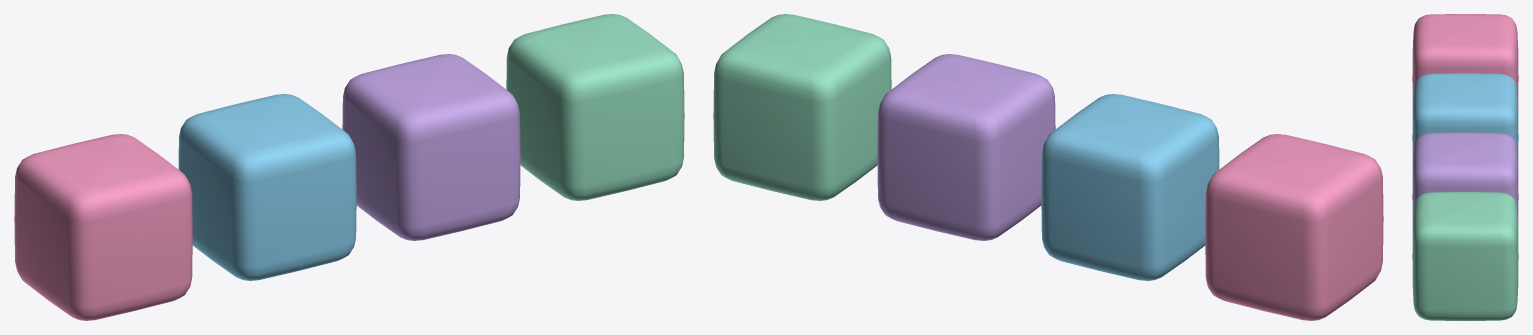
The model's file is puzzle_cubes.glb.
3 views of the same model, side by side, from view 1: azimuth 30°, elevation 25°; view 2: azimuth 150°, elevation 25°; view 3: azimuth 270°, elevation 25° (orthographic). The views are drawn at different scales.
Visible parts, largest first — view 1: Cube_Pink, Cube_Blue, Cube_Mint, Cube_Lavender; view 2: Cube_Pink, Cube_Blue, Cube_Mint, Cube_Lavender; view 3: Cube_Mint, Cube_Pink, Cube_Lavender, Cube_Blue.
Boxes of the visible parts, <box> form: Cube_Pink: <box>14,134,192,320</box>; Cube_Blue: <box>178,94,356,280</box>; Cube_Mint: <box>506,14,684,200</box>; Cube_Lavender: <box>342,54,520,240</box>; Cube_Pink: <box>1205,134,1383,320</box>; Cube_Blue: <box>1041,94,1219,280</box>; Cube_Mint: <box>713,14,891,200</box>; Cube_Lavender: <box>877,54,1055,240</box>; Cube_Mint: <box>1412,192,1518,320</box>; Cube_Pink: <box>1412,14,1518,106</box>; Cube_Lavender: <box>1412,132,1518,224</box>; Cube_Blue: <box>1412,73,1518,165</box>.
Bounding box in the file's own units: 3.38 × 0.68 × 0.68.
